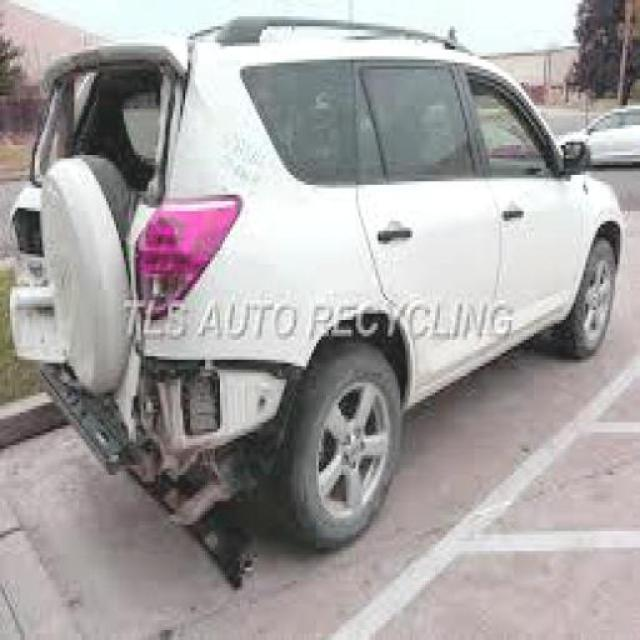Car-Damage: (12, 52, 299, 563)
